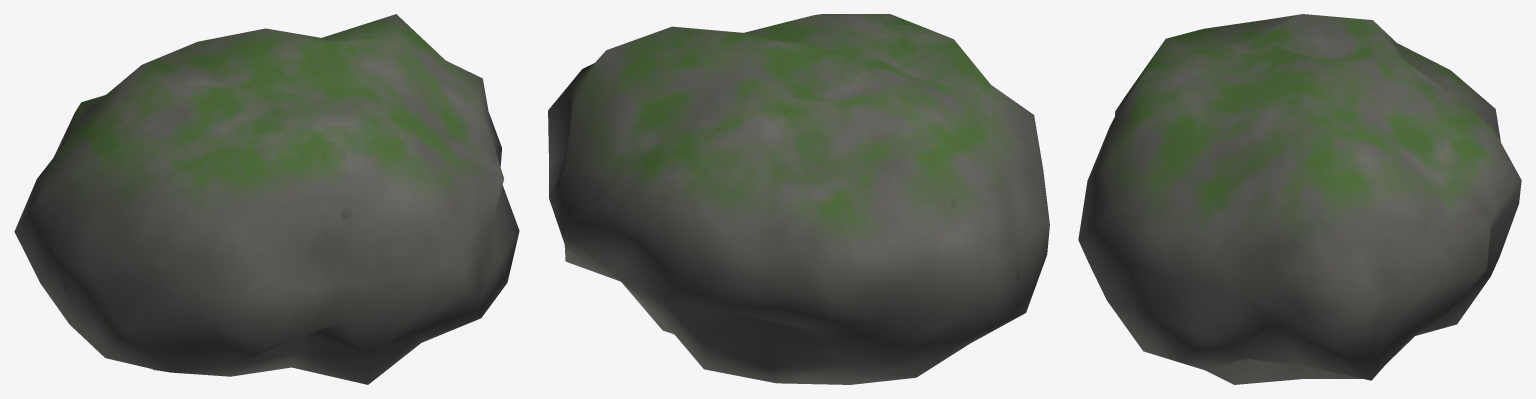
The model's file is boulder.glb.
3 views of the same model, side by side, from view 1: azimuth 30°, elevation 25°; view 2: azimuth 150°, elevation 25°; view 3: azimuth 270°, elevation 25° (orthographic). The views are drawn at different scales.
Parts seen in each view (by area): view 1: boulder; view 2: boulder; view 3: boulder.
Boxes of the visible parts, x1=… form: boulder: x1=14, y1=14, x2=519, y2=384; boulder: x1=548, y1=14, x2=1049, y2=384; boulder: x1=1078, y1=14, x2=1521, y2=384.
Size of the model in its own units: 3.94 by 2.48 by 3.37.
Materials: 1 (1 with a texture image).
